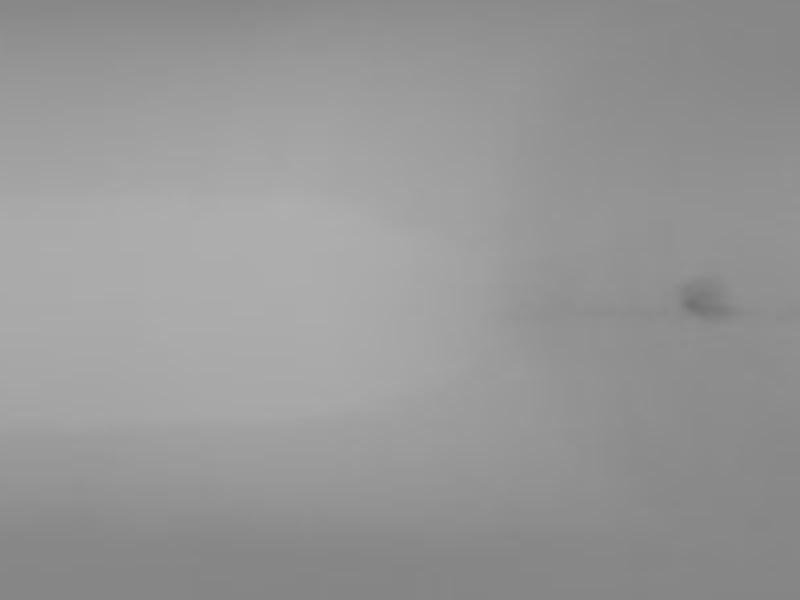defect: (681, 276, 726, 317)
